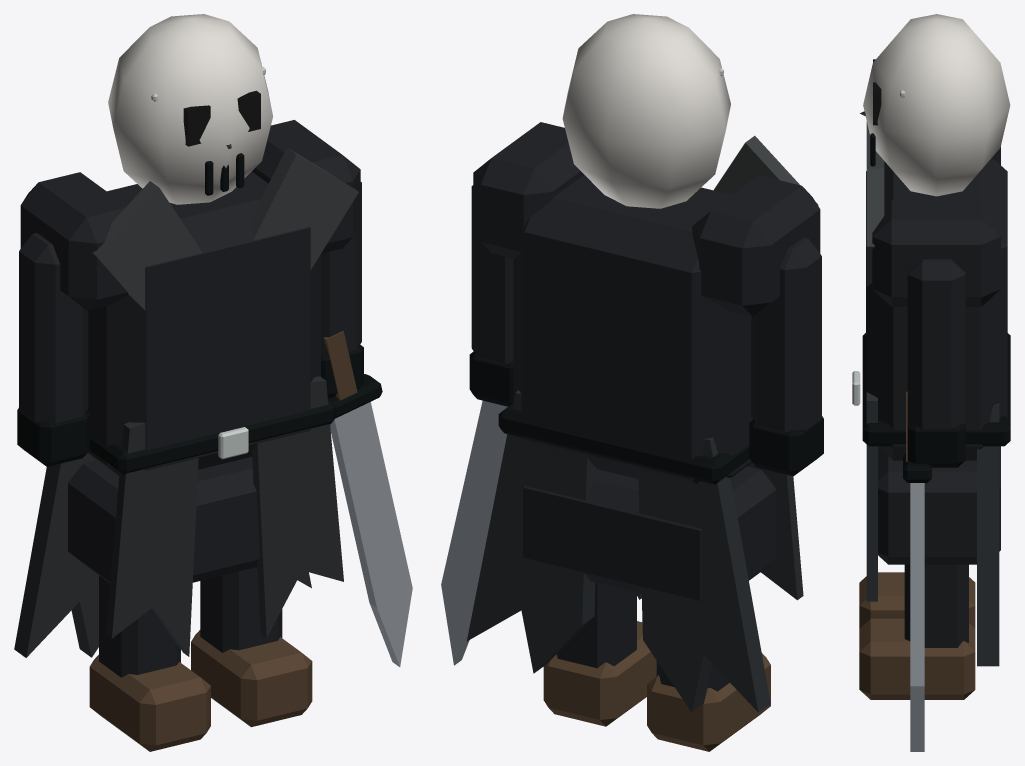
File: hunter.glb
The picture shows the model from 3 angles, left to right: view 1: azimuth 30°, elevation 25°; view 2: azimuth 150°, elevation 25°; view 3: azimuth 270°, elevation 25°; orthographic projection. The views are drawn at different scales.
Visible parts, largest first — view 1: body, Split_coat_front (×2), head, legR, legL, weapon, armL, Torn_coat_tail, Belt, armR, Glove (×2), Blade_guard (+1 smaller); view 2: body, Torn_coat_tail (×2), head, armL, legR, weapon, legL, Belt, Glove (×2), armR, Split_coat_front; view 3: body, head, legR, armR, Torn_coat_tail, weapon, Belt, Glove, Split_coat_front, legL, Blade_guard, Belt_buckle.
Part boxes in pixels (left/top/right/bottom): body: left=20, top=120, right=360, bottom=582; Split_coat_front (×2): left=106, top=376, right=343, bottom=656; head: left=108, top=14, right=272, bottom=204; legR: left=191, top=567, right=312, bottom=727; legL: left=89, top=575, right=210, bottom=751; weapon: left=323, top=331, right=412, bottom=666; armL: left=19, top=233, right=88, bottom=424; Torn_coat_tail: left=14, top=453, right=98, bottom=657; Belt: left=89, top=400, right=335, bottom=474; armR: left=321, top=182, right=361, bottom=357; Glove (×2): left=17, top=344, right=363, bottom=466; Blade_guard: left=328, top=374, right=382, bottom=418; body: left=473, top=122, right=820, bottom=601; Torn_coat_tail (×2): left=466, top=390, right=770, bottom=712; head: left=562, top=14, right=730, bottom=208; armL: left=751, top=237, right=821, bottom=433; legR: left=543, top=582, right=656, bottom=726; weapon: left=441, top=400, right=507, bottom=665; legL: left=647, top=653, right=770, bottom=751; Belt: left=498, top=403, right=749, bottom=484; Glove (×2): left=469, top=351, right=823, bottom=476; armR: left=471, top=185, right=513, bottom=364; Split_coat_front: left=747, top=462, right=803, bottom=600; body: left=866, top=121, right=1007, bottom=564; head: left=860, top=14, right=1010, bottom=196; legR: left=859, top=564, right=975, bottom=699; armR: left=907, top=259, right=965, bottom=430; Torn_coat_tail: left=977, top=403, right=999, bottom=666; weapon: left=906, top=391, right=924, bottom=751; Belt: left=862, top=333, right=1010, bottom=446; Glove: left=907, top=423, right=965, bottom=467; Split_coat_front: left=866, top=392, right=877, bottom=601; legL: left=859, top=572, right=975, bottom=628; Blade_guard: left=903, top=454, right=931, bottom=482; Belt_buckle: left=852, top=371, right=860, bottom=405.
Bounding box in the file's own units: 1.25 × 2.21 × 0.4925.
